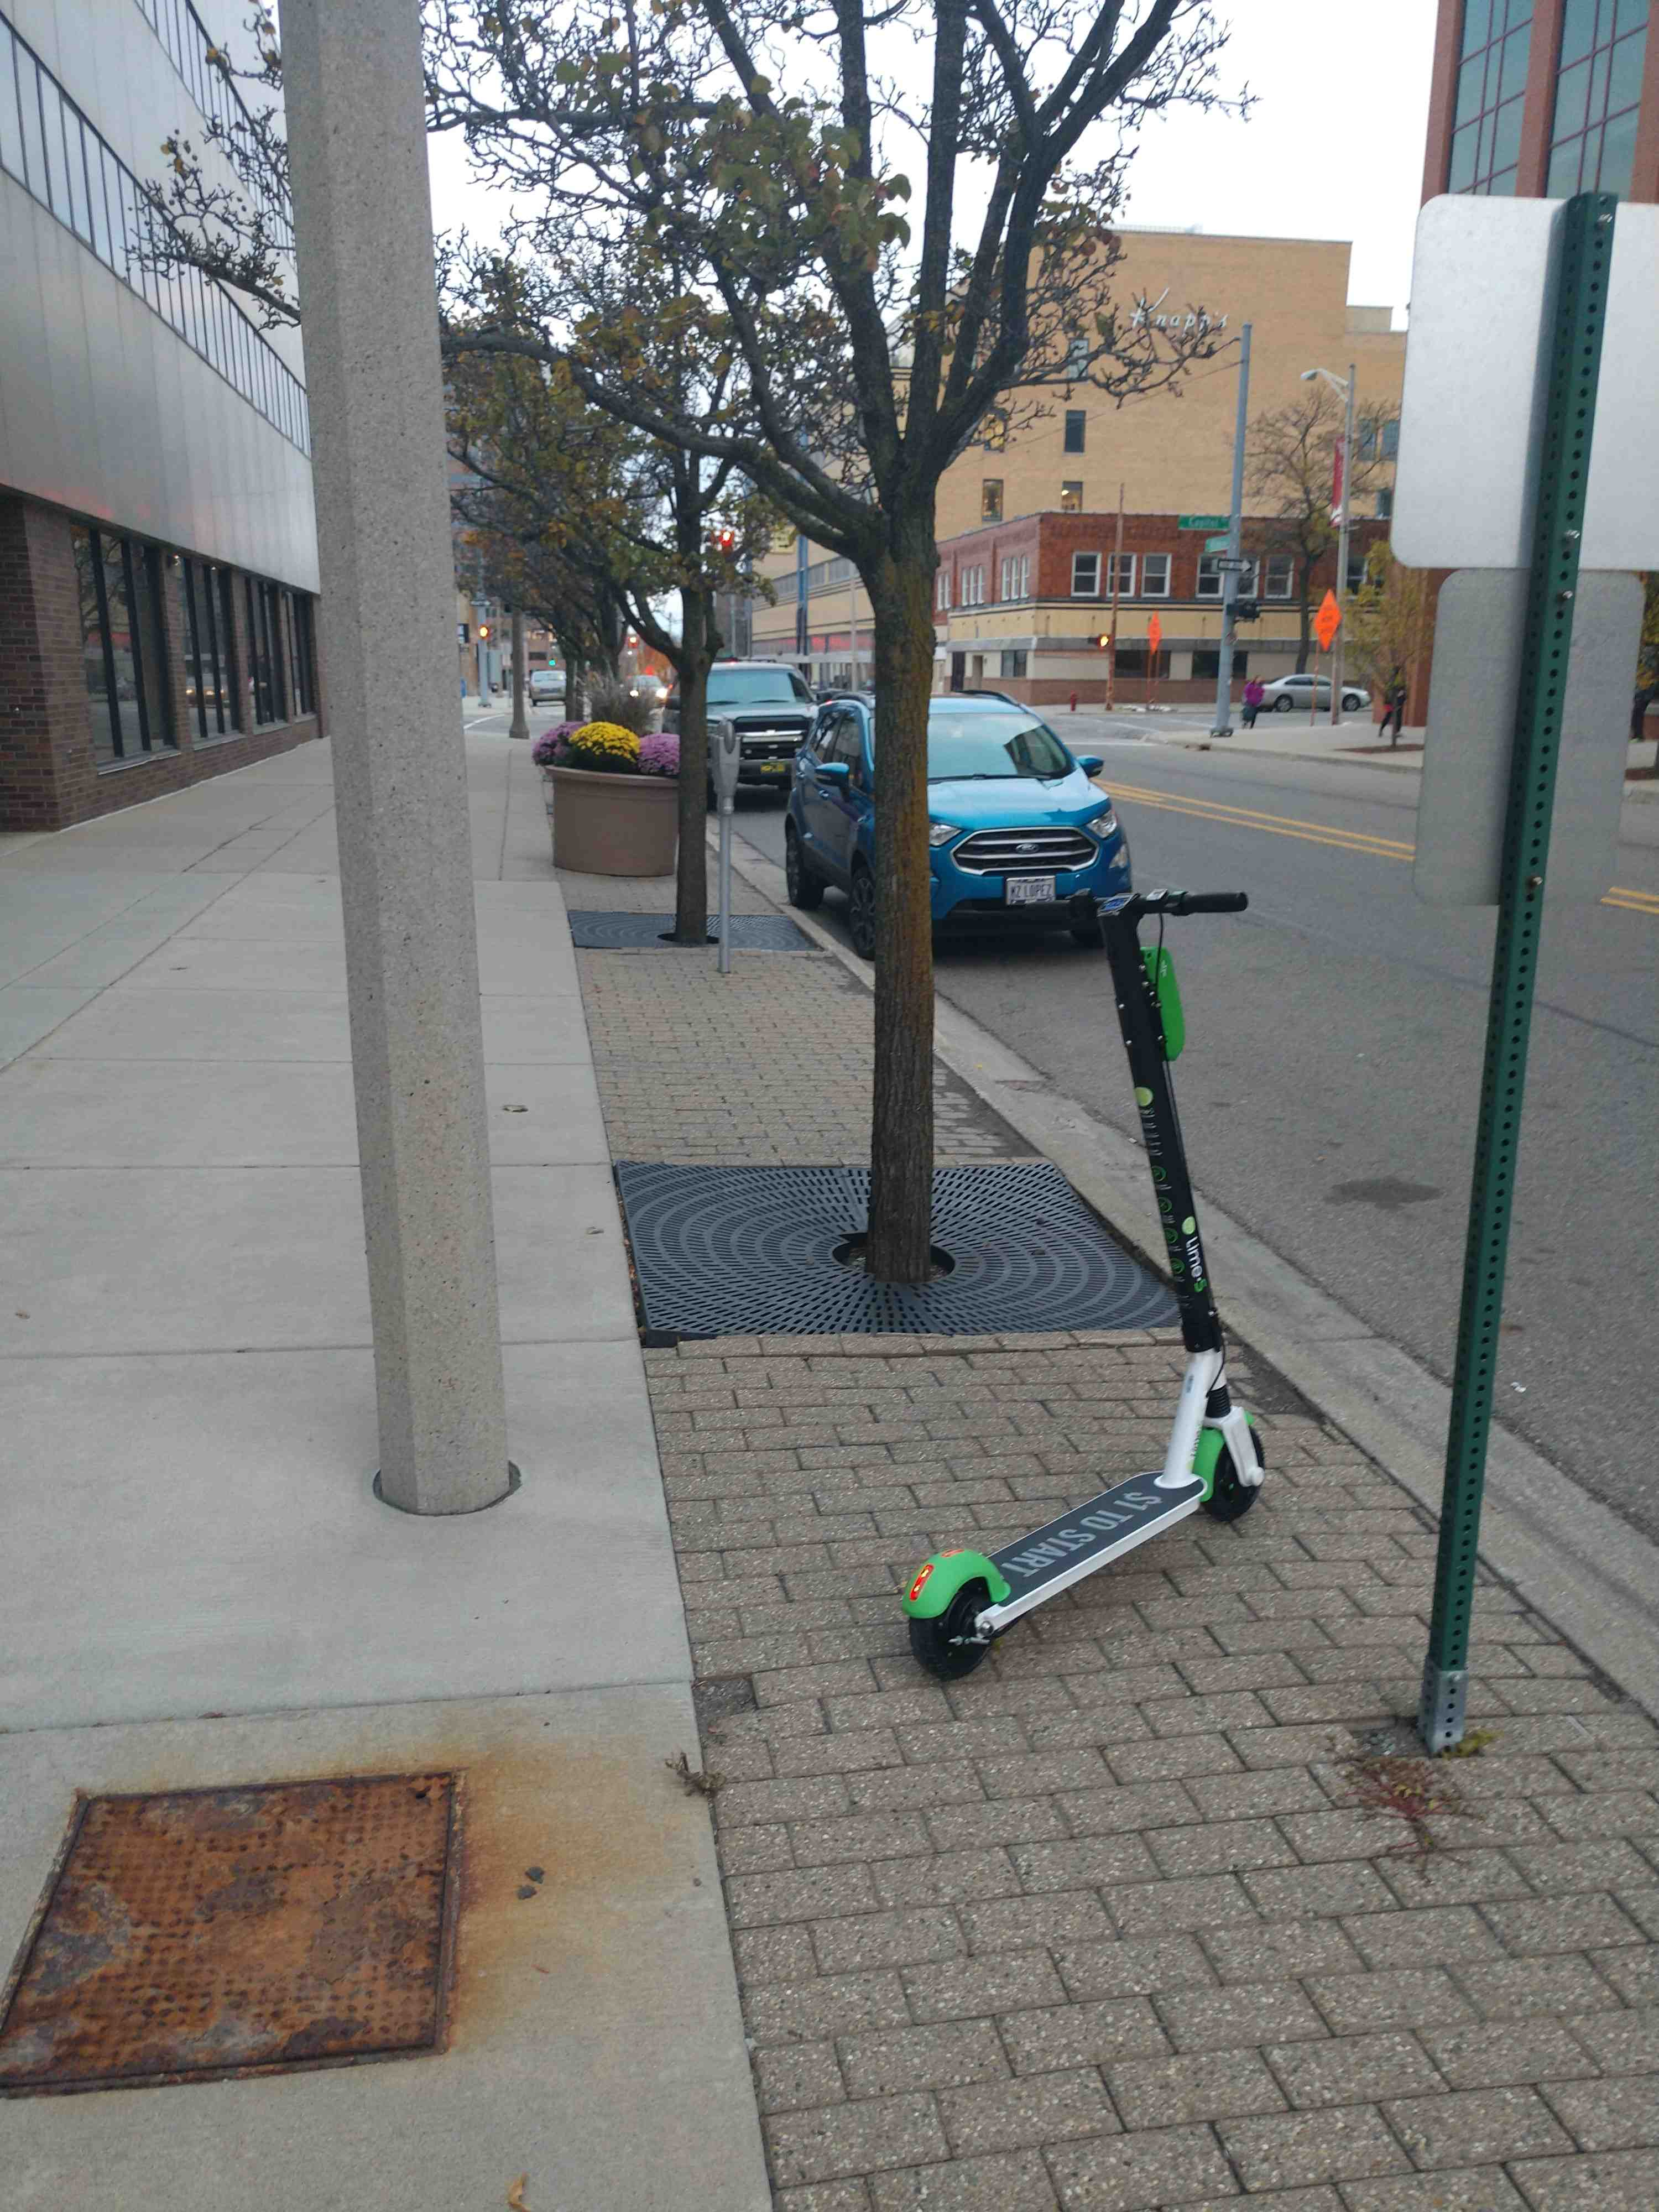scooter: (884, 843, 1295, 1707)
